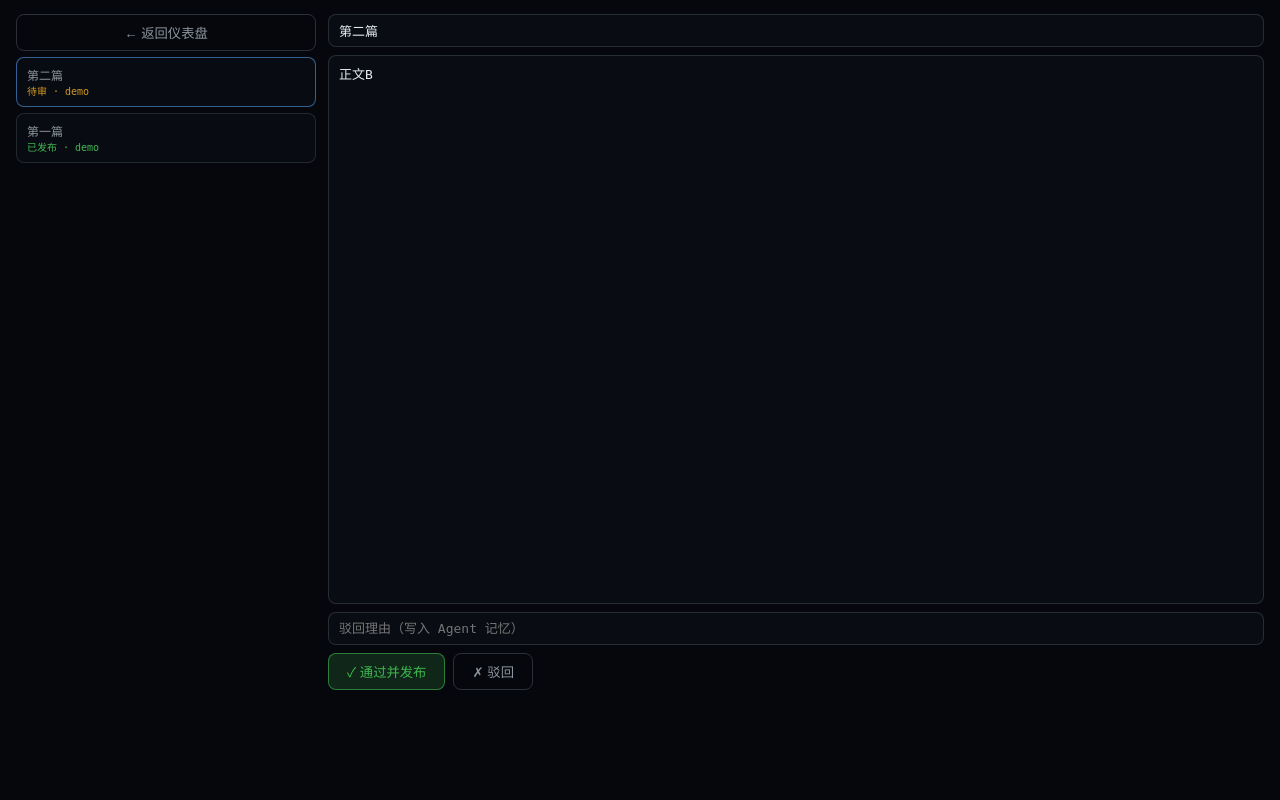
Test: 审查 Important #1：approve reject 时 flash 显示发布失败（不卡死在发布中）
expect the text "第二篇" is shown: met, box [27,69,63,83]
Click the button "✓ 通过并发布" at (387, 672), box [328,653,446,690]
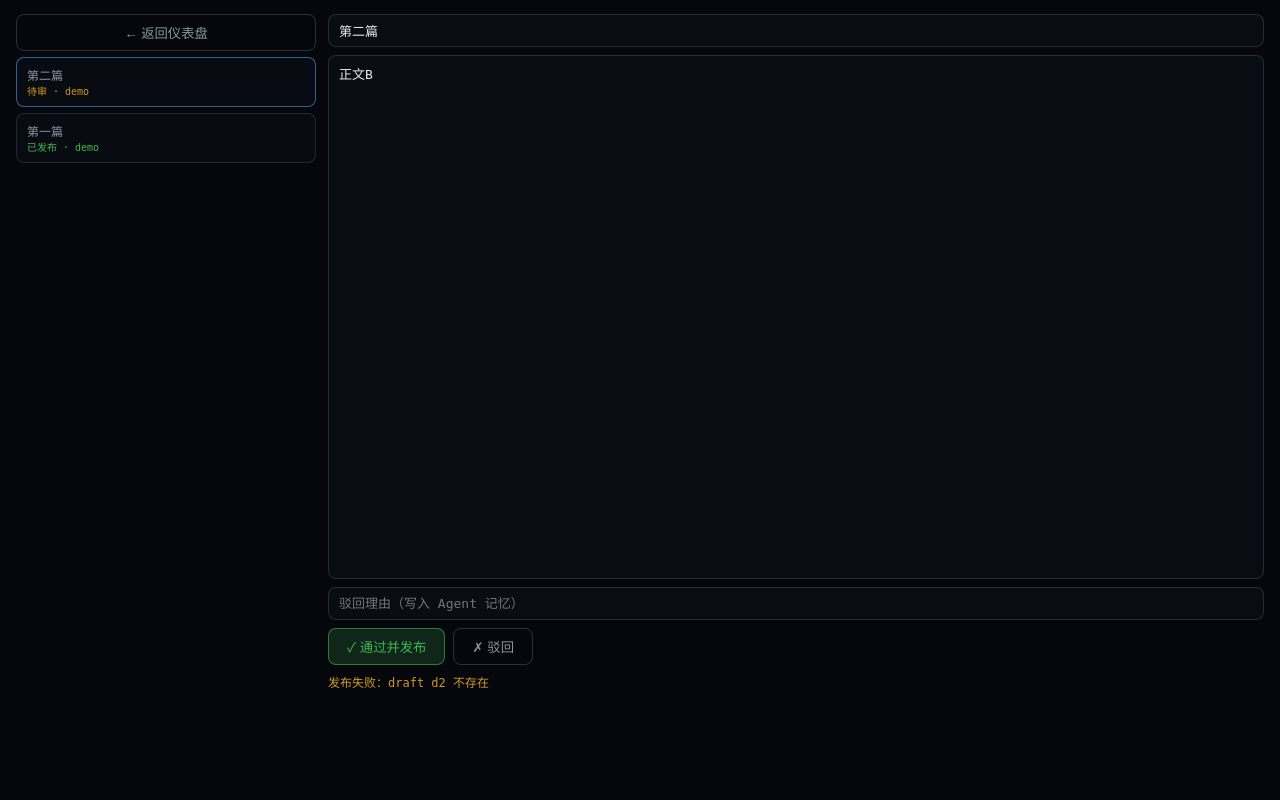
expect the text "发布失败：draft d2 不存在" is shown: met, box [328,676,489,690]
